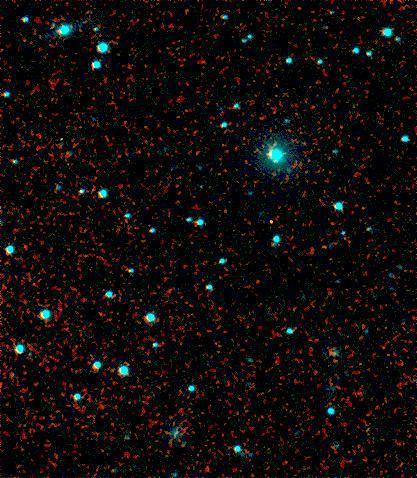star: (254, 207, 284, 237)
